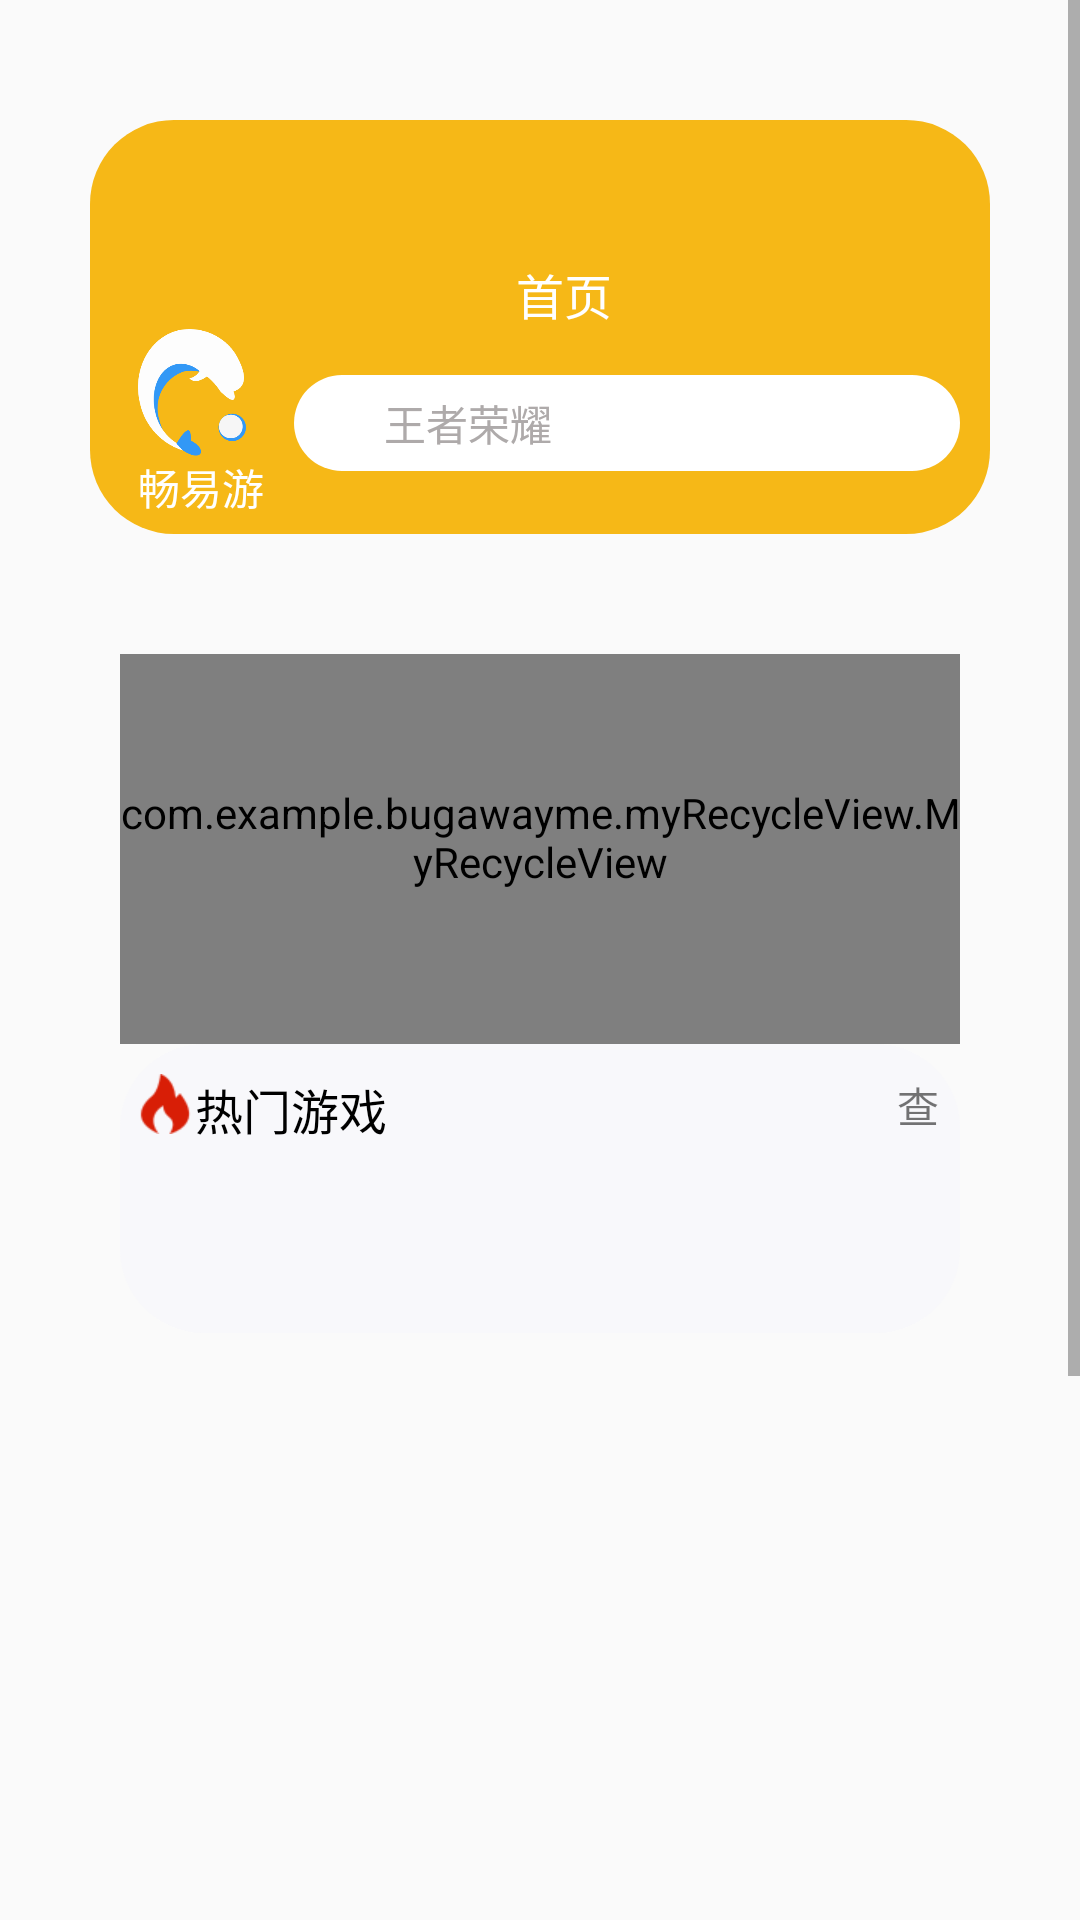

Icon bounding boxes for this 1080x1920 phone screenshot, format (x1, y1, x2, y2):
fire: (140, 1074, 190, 1134)
